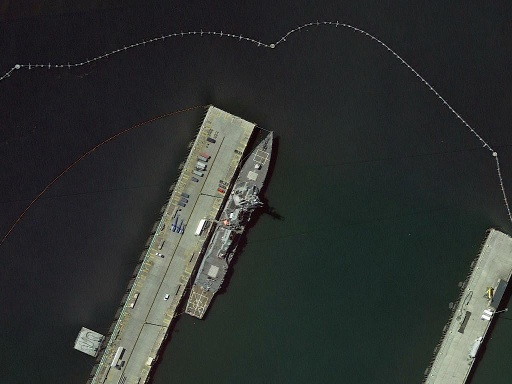ship: (180, 124, 285, 324)
